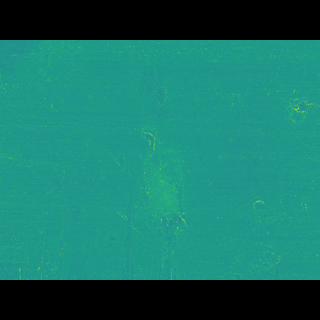Loch: (127, 131, 192, 230), (280, 112, 309, 134)
